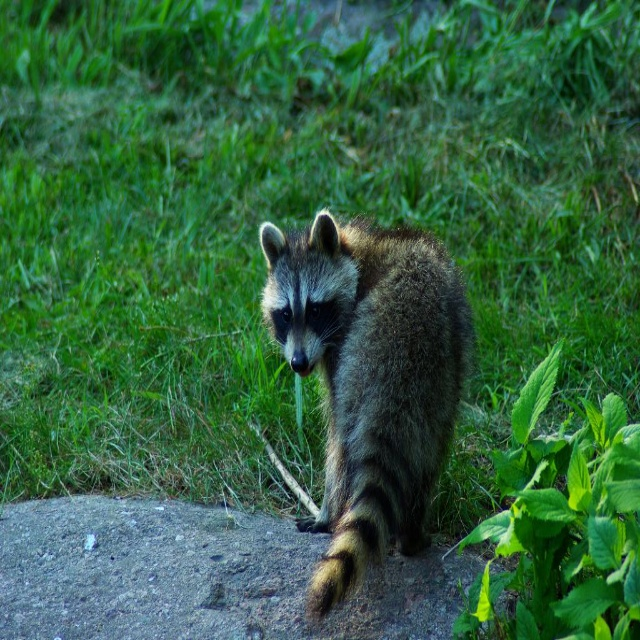Raccoon: (258, 206, 476, 624)
